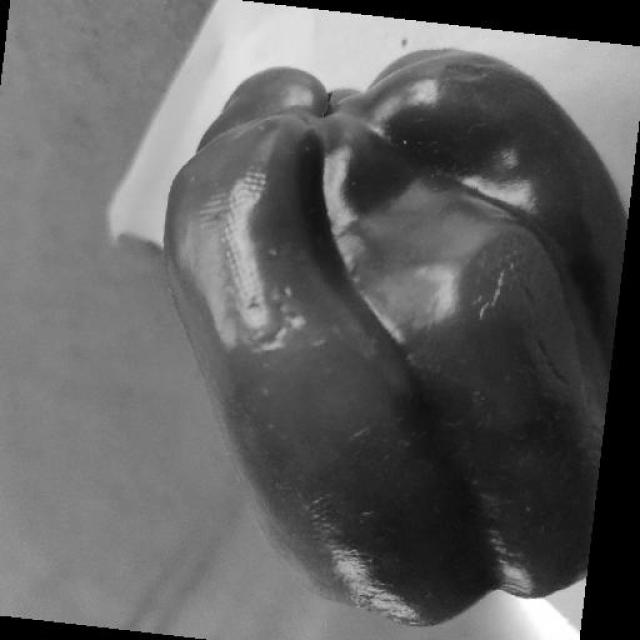Stale_Capsicum: (145, 142, 605, 640)
